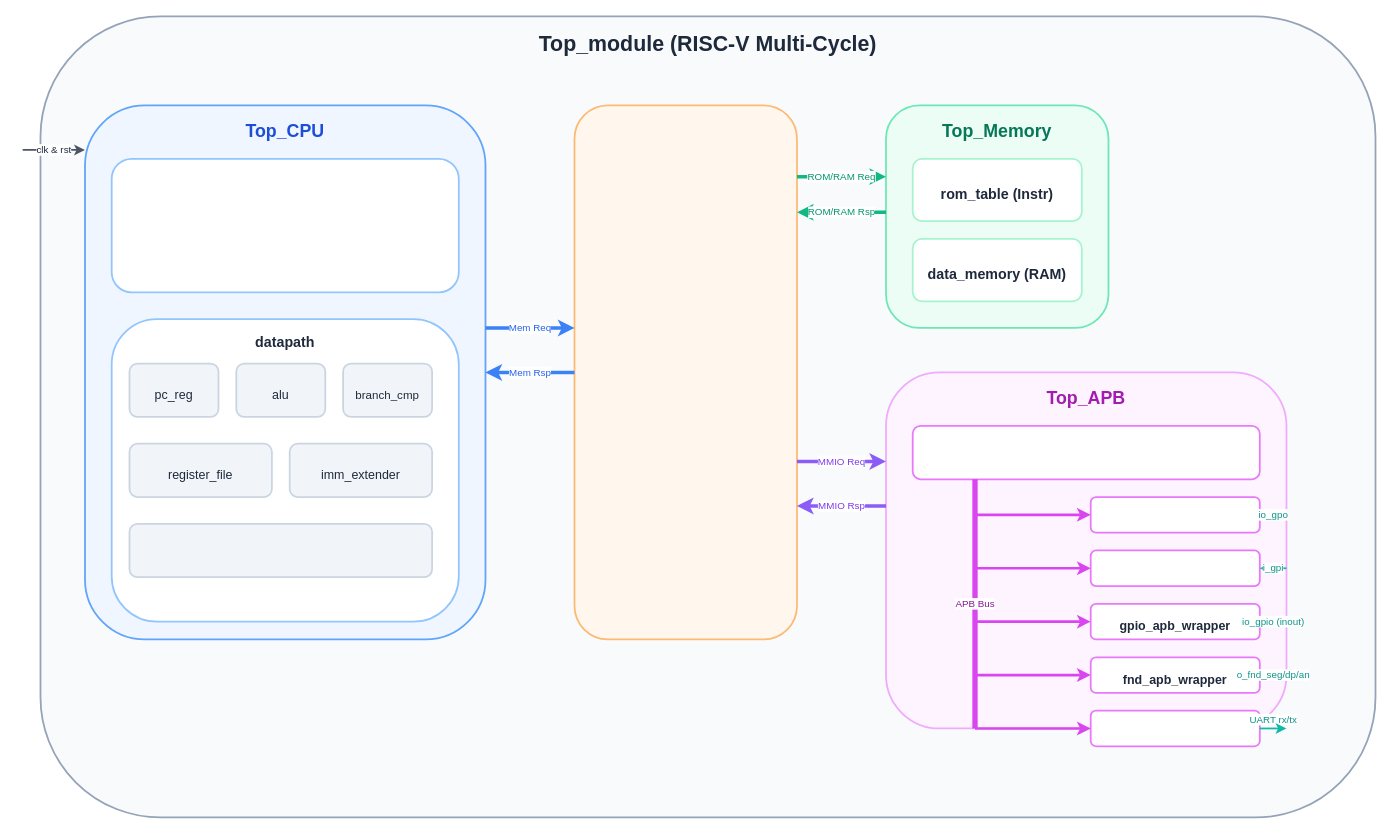
Image size: 1391x833. Some labels were removed from this diagram. The centre of each missing label's shape, as x and y in pixels:
"APB_master (Bus Bridge)" goes at [1085,452].
"control\n\nState Machine & Decoding" goes at [284,225].
"gpi_apb_wrapper" goes at [1174,568].
"gpo_apb_wrapper" goes at [1174,514].
"IR, MDR, A, B, ALUOut Regs" goes at [280,550].
"Top_Memory_CNTL\n\nAddress Decoder &\nBus Matrix" goes at [685,372].
"uart_apb_wrapper" goes at [1174,728].
